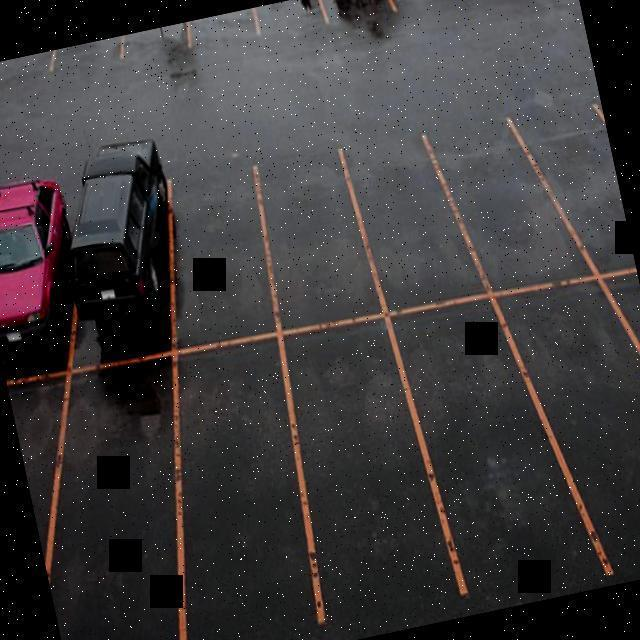car: (50, 148, 194, 368), (0, 186, 89, 367)
free: (2, 331, 235, 640), (138, 320, 348, 640), (255, 300, 458, 600), (384, 274, 578, 586), (488, 257, 640, 570), (3, 354, 127, 640), (334, 106, 492, 317), (428, 98, 590, 296), (152, 141, 296, 361), (244, 128, 396, 334), (518, 65, 634, 278), (51, 33, 139, 85), (0, 46, 76, 103), (125, 20, 202, 70), (250, 0, 330, 45), (183, 8, 258, 56), (313, 0, 389, 32), (378, 0, 458, 24)
